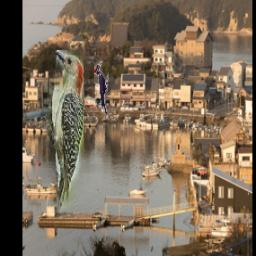Woodpecker: (40, 50, 84, 219), (94, 62, 109, 115)
